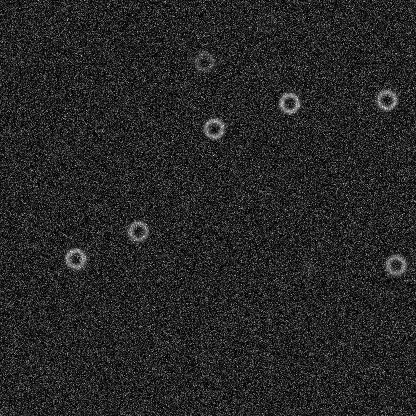Ring: (192, 49, 216, 73), (277, 90, 301, 114), (63, 246, 87, 270), (125, 218, 149, 242), (374, 87, 398, 111), (254, 10, 278, 34), (383, 252, 407, 276), (201, 116, 225, 140)
Spot: (299, 259, 315, 275)
